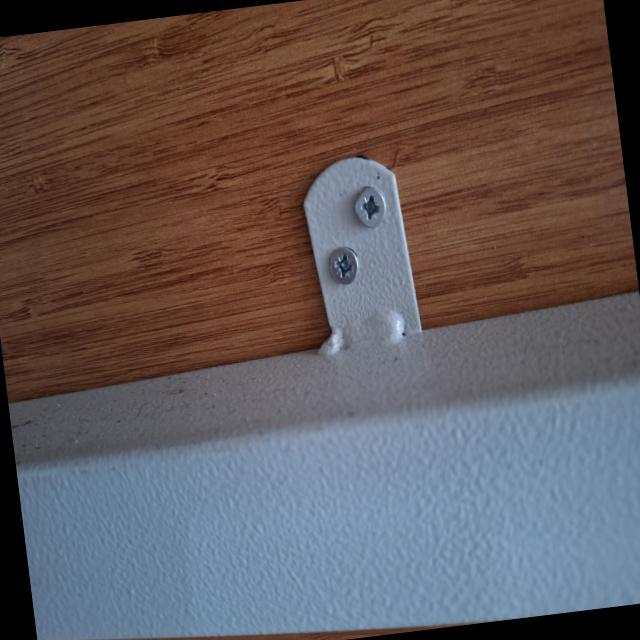Pozidriv: (352, 185, 388, 231), (327, 246, 359, 286)
